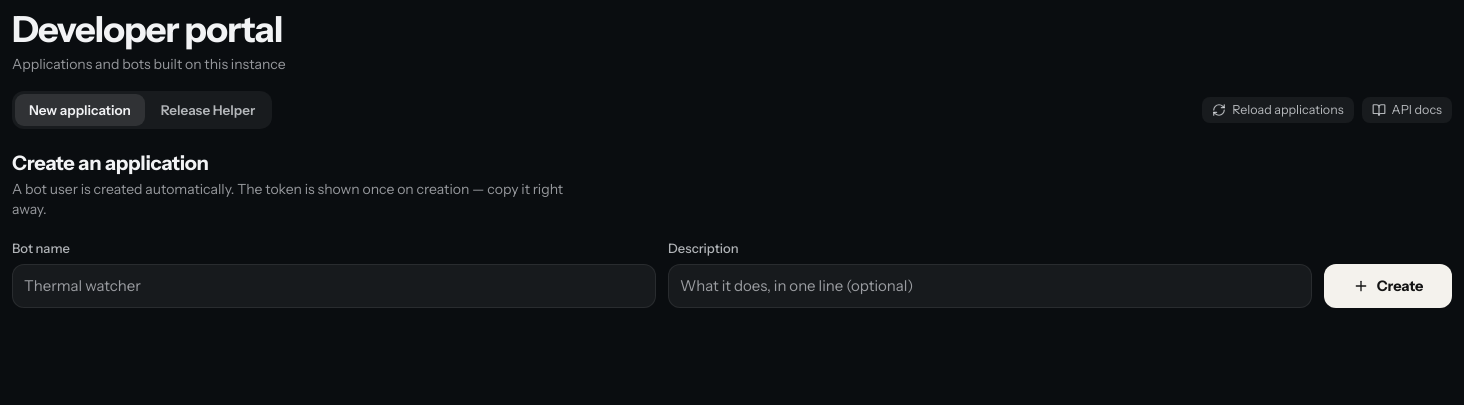
DeveloperPage metrics › preserves create-bot API error details
This screenshot has width=1464, height=405.
Expected: the tab "Release Helper" is shown, left=147, top=94, right=269, bottom=126
Type "Release Helper" into the field labelled "Bot name" at [334, 286], box left=24, top=274, right=644, bottom=297
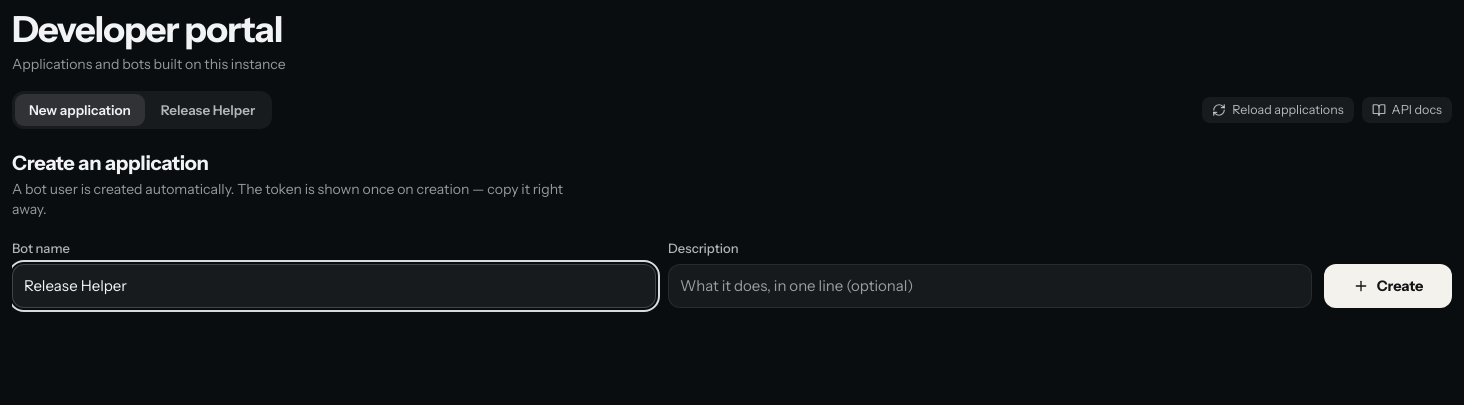
Click the button "Create" at [1388, 286], box left=1324, top=264, right=1452, bottom=308
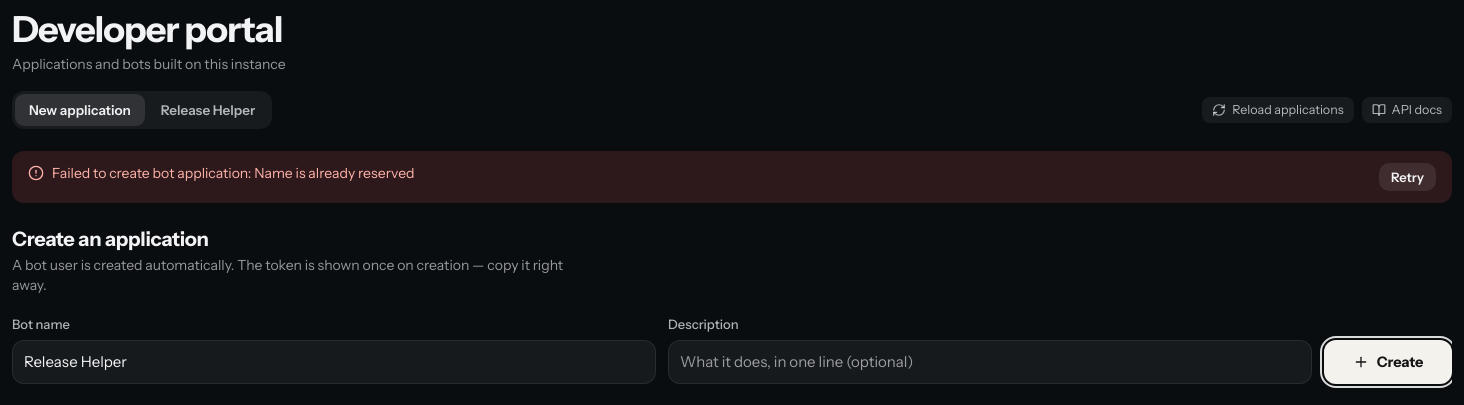
Result: the text "Failed to create bot application: Name is already reserved" is shown at left=52, top=163, right=414, bottom=185
